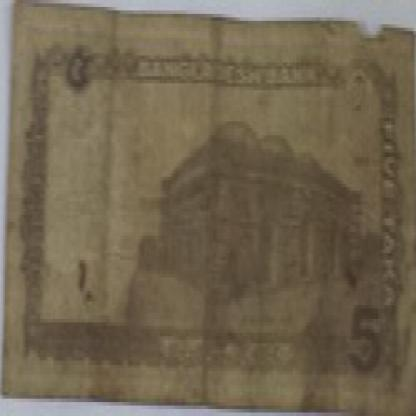Five Taka: (341, 291, 385, 395), (63, 35, 97, 108)
